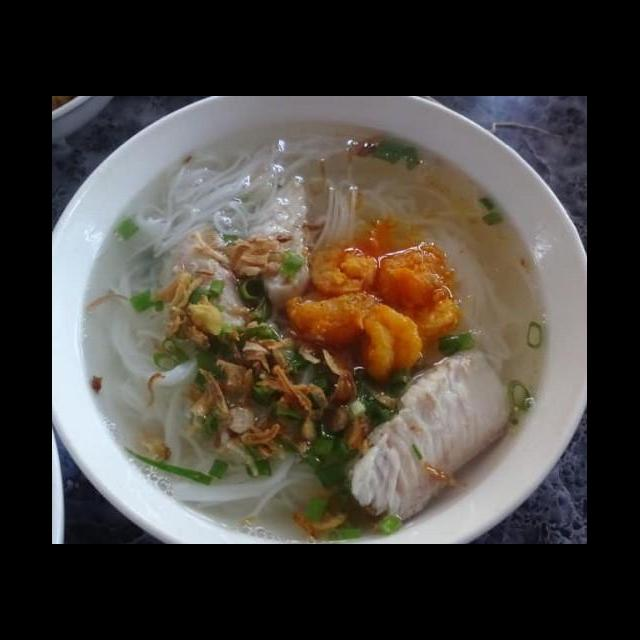bun: (135, 132, 482, 244), (80, 233, 204, 505)
bun ca: (77, 123, 571, 529)
ca: (344, 340, 526, 538), (258, 180, 310, 303)
tom: (283, 285, 427, 384), (372, 236, 466, 341), (306, 240, 384, 303)
